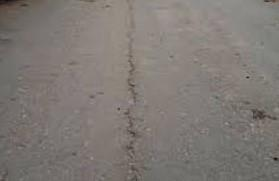crack: (124, 3, 148, 176)
